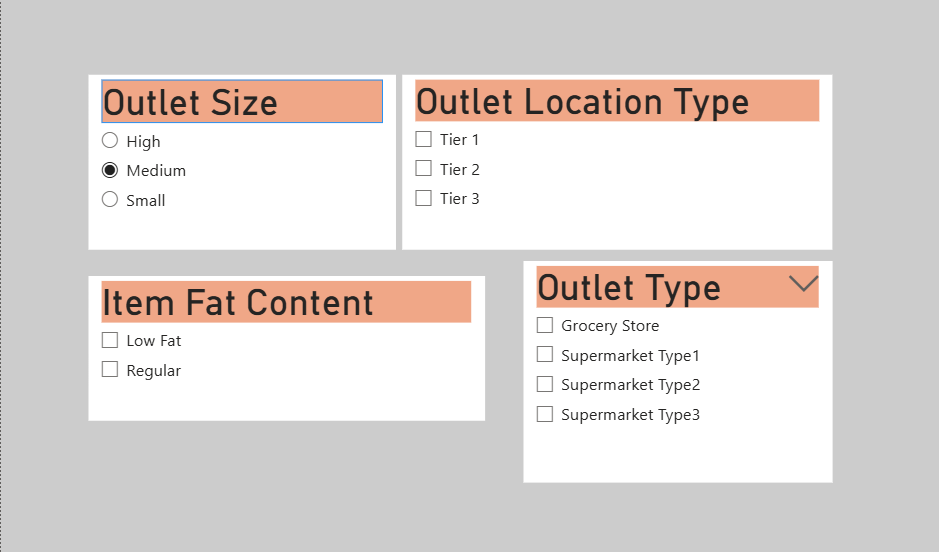

What the dashboard file says about the page in this screenshot:
{"tool":"powerbi","page":{"name":"Page 3","canvas":[1280,720],"ordinal":2},"visuals":[{"type":"slicer","fields":{"Values":["blinkit grocery.Outlet Location Type"]},"box":[408.9,74.1,419.9,205.8],"z":0},{"type":"slicer","fields":{"Values":["blinkit grocery.Outlet Size"]},"box":[61.7,130.4,300.5,171.5],"z":1000},{"type":"slicer","fields":{"Values":["blinkit grocery.Outlet Type"]},"box":[885.1,109.8,301.9,216.8],"z":2000},{"type":"slicer","fields":{"Values":["blinkit grocery.Item Fat Content"]},"box":[408.9,359.5,387,141.3],"z":3000}]}

Visuals, with their boxes on the page's 1280x720 design canvas (x1, y1, x2, y2). These are canvas units, not pixel positions in the 939x552 screenshot, which may show the page scaled, cropped or inside an application window:
slicer - blinkit grocery.Outlet Location Type: <box>409,74,829,280</box>
slicer - blinkit grocery.Outlet Size: <box>62,130,362,302</box>
slicer - blinkit grocery.Outlet Type: <box>885,110,1187,327</box>
slicer - blinkit grocery.Item Fat Content: <box>409,360,796,501</box>
